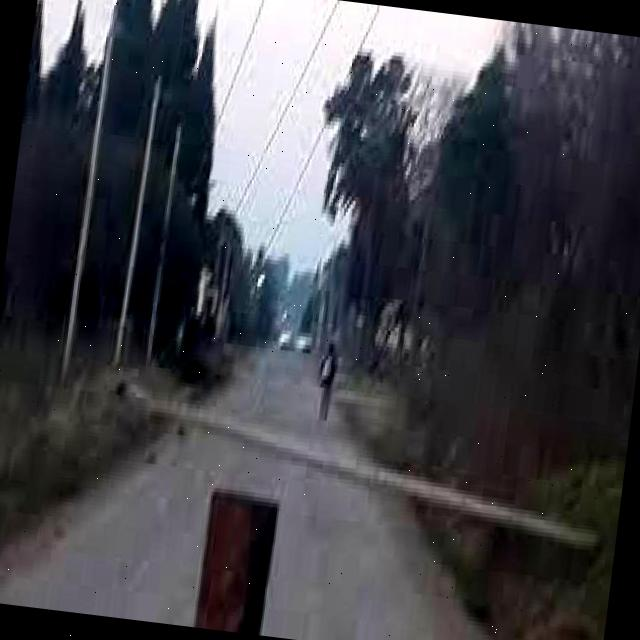Broken Pole: (114, 378, 599, 553)
